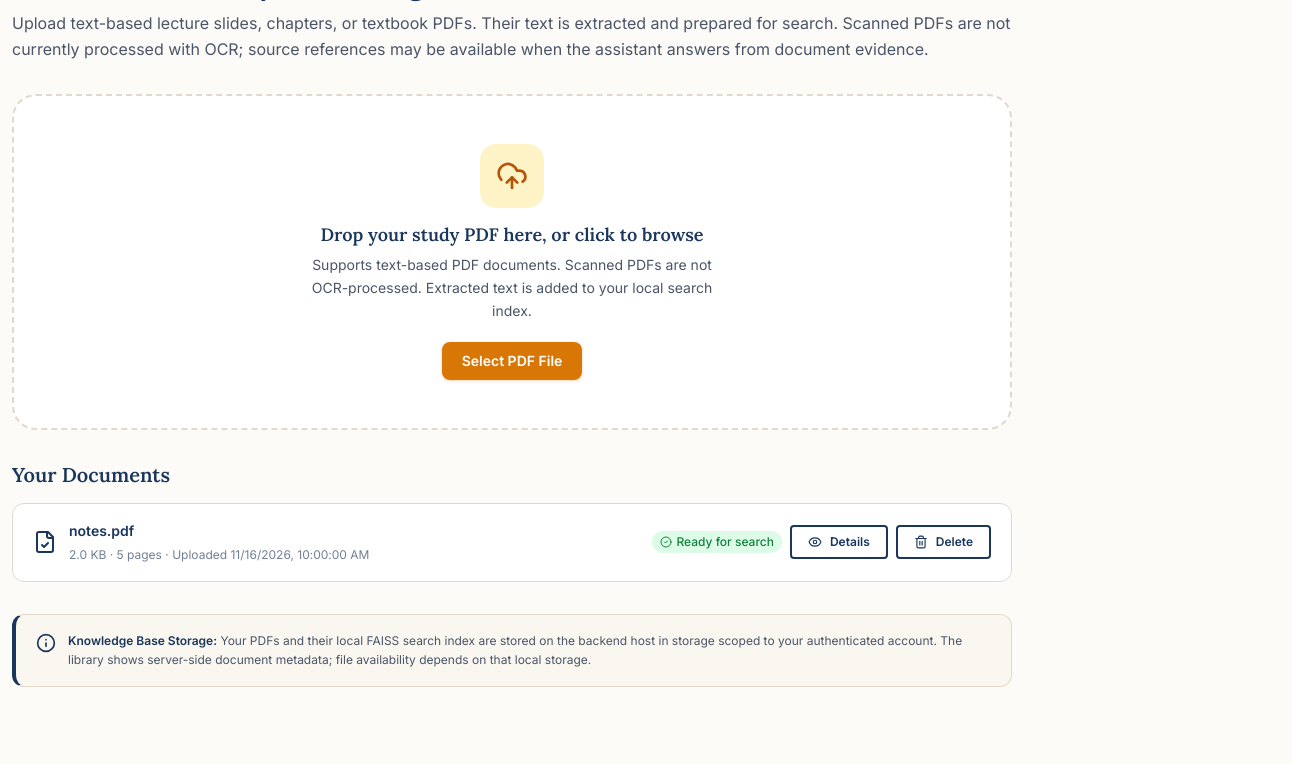
Test: DocumentLibraryPage › shows server metadata and loads details for an owned document
Expected: the text "notes.pdf" is shown, [69, 522, 134, 539]
Expected: the text "2.0 KB · 5 pages · Uploaded 11/16/2026, 10:00:00 AM" is shown, [69, 545, 369, 564]
Click the button with aria-label "Details for notes.pdf" at (839, 542), box [790, 525, 888, 559]
(page scrolled)
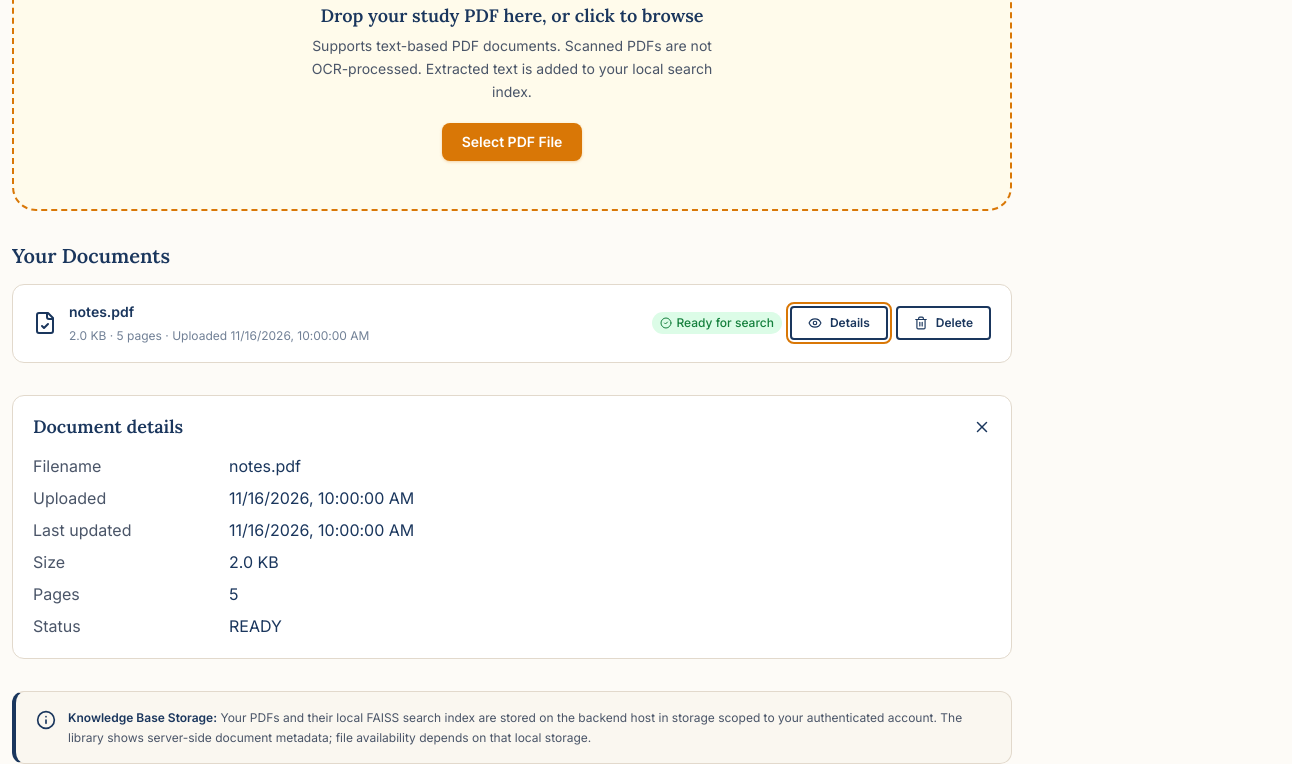
Expected: the heading "Document details" is shown, [33, 416, 183, 438]
Expected: the text "READY" is shown, [229, 616, 282, 636]
